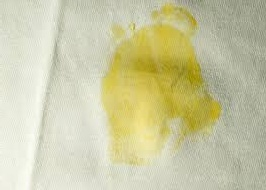mustard: (106, 4, 224, 156)
